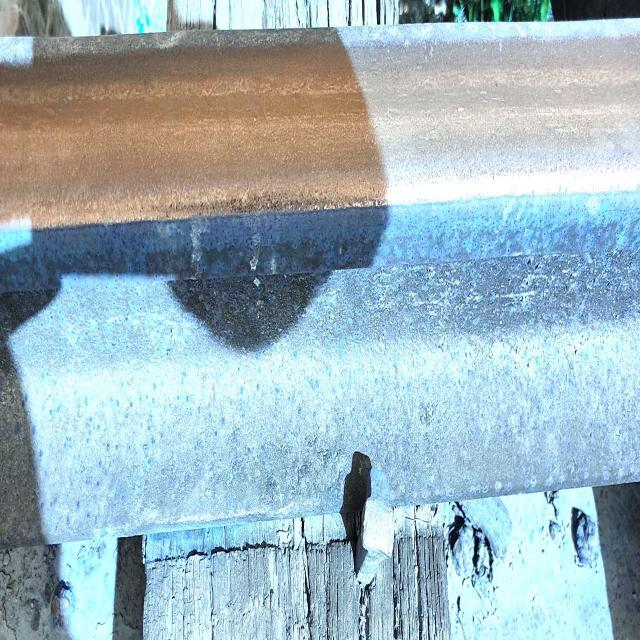Good Fasteners: (354, 498, 394, 587)
